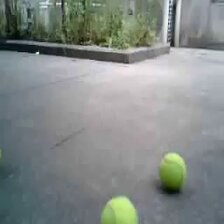tennis: (100, 195, 139, 224), (159, 152, 185, 191)
